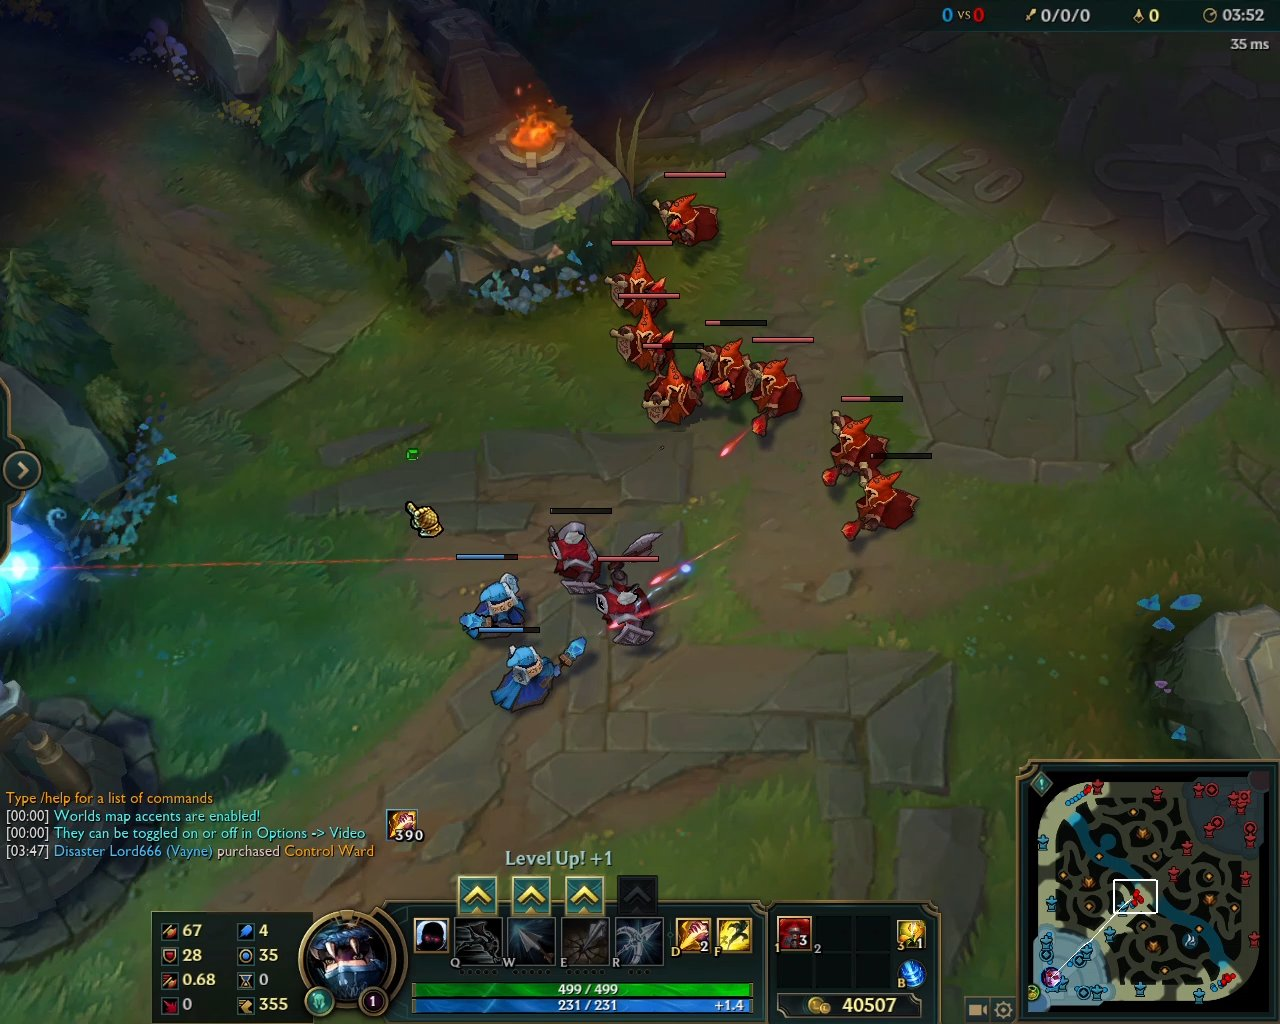EnemyMinion: (585, 532, 666, 652), (836, 453, 933, 544), (821, 395, 904, 488), (743, 338, 814, 443), (537, 504, 616, 596), (693, 316, 767, 402), (605, 290, 679, 375), (649, 171, 728, 250), (639, 341, 702, 430), (604, 238, 673, 320)
